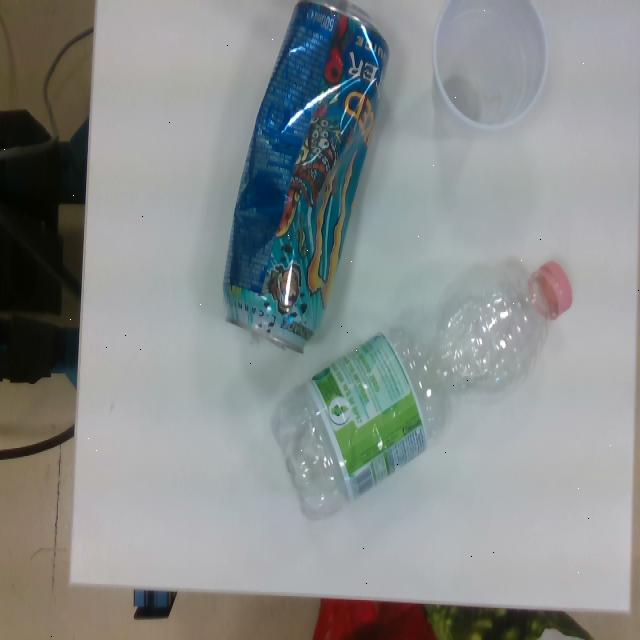aluminum: (222, 0, 391, 355)
plastic: (266, 249, 575, 530), (425, 1, 552, 139)
